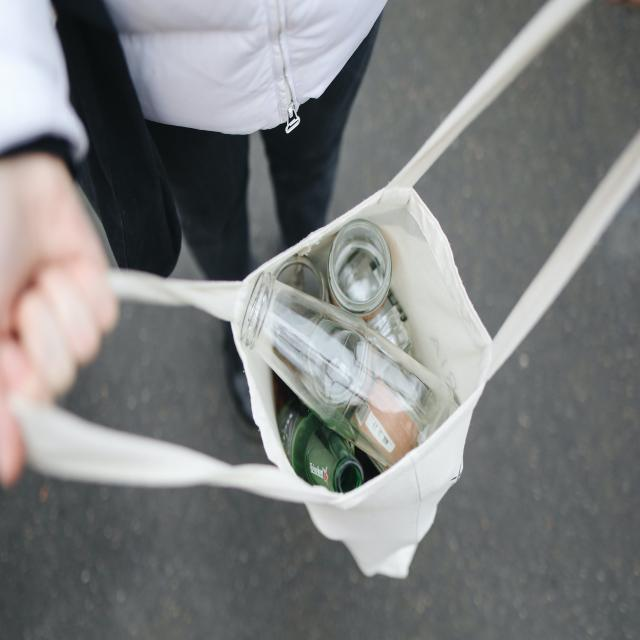plastic: (282, 276, 418, 461)
